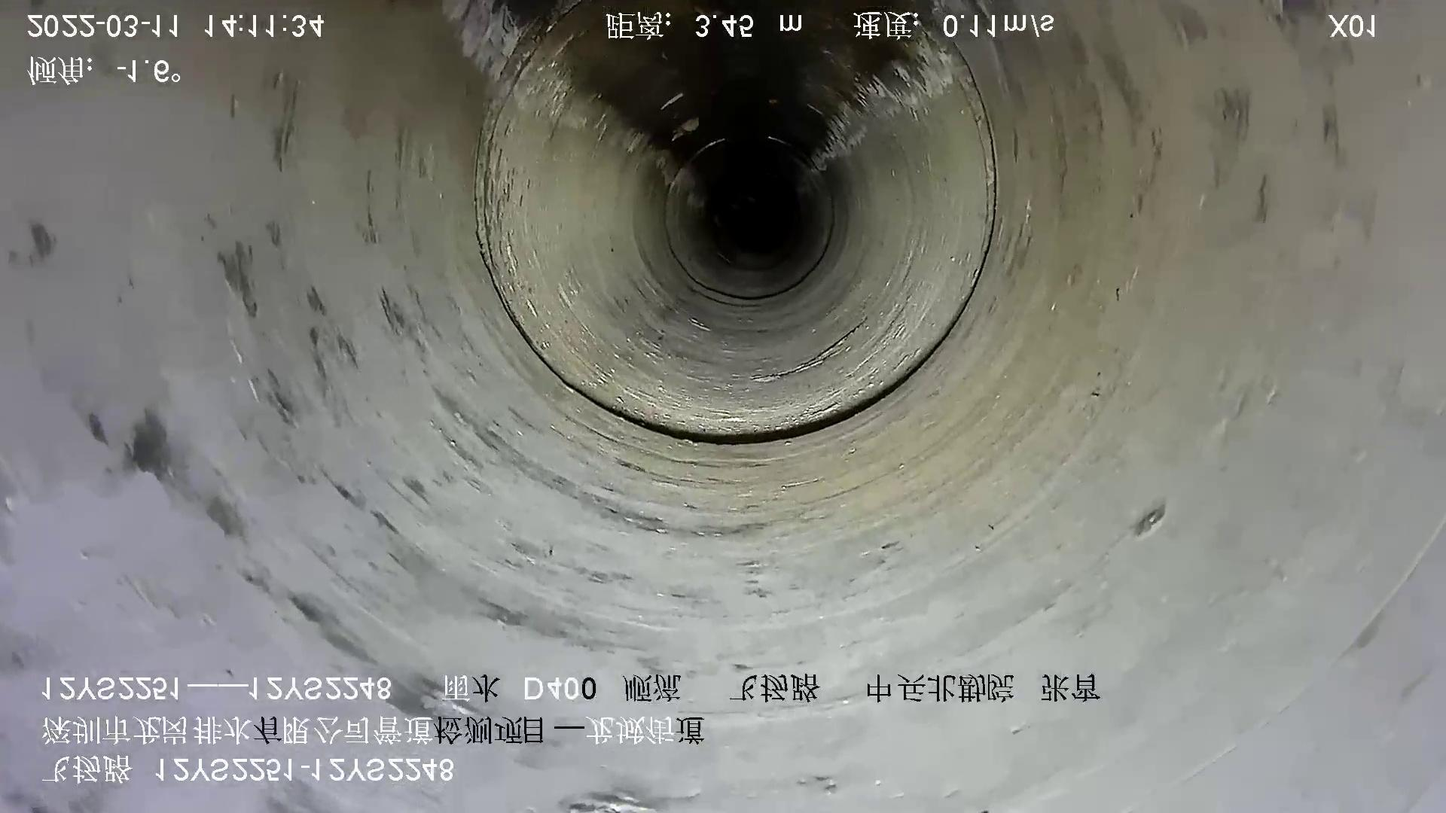CKTJ: (473, 40, 997, 447)
PL: (761, 312, 874, 381)
